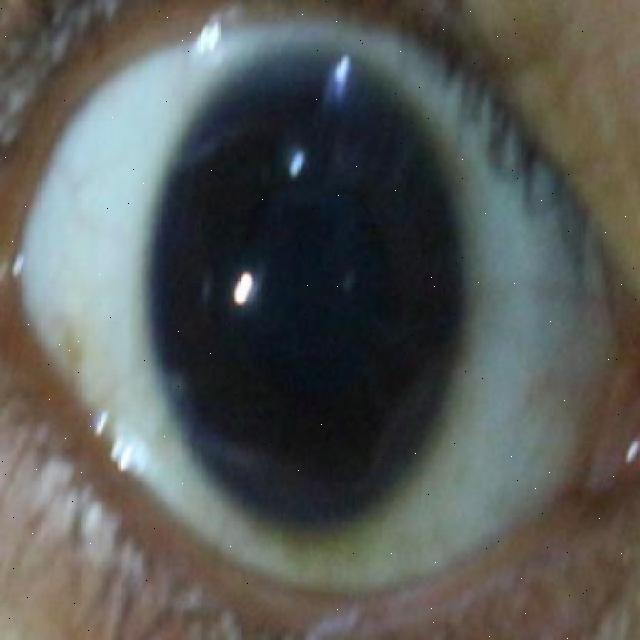Normal: (146, 56, 466, 543)
